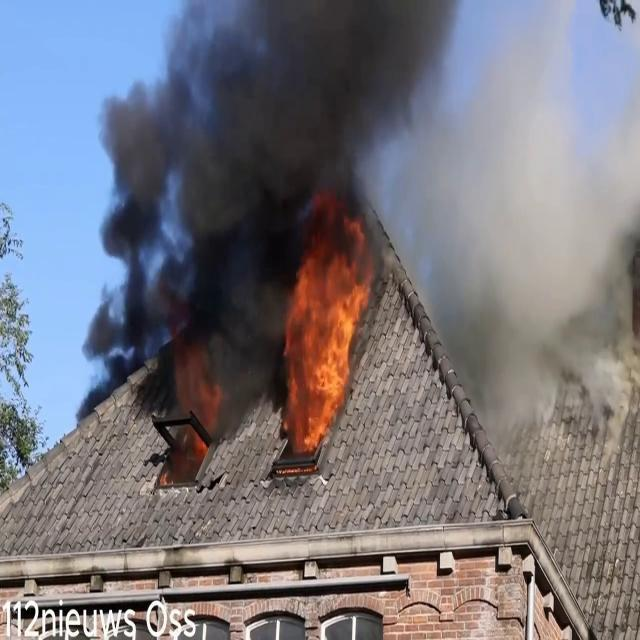Fire: (278, 218, 376, 464)
Smoke: (84, 1, 440, 444), (400, 1, 640, 437)
